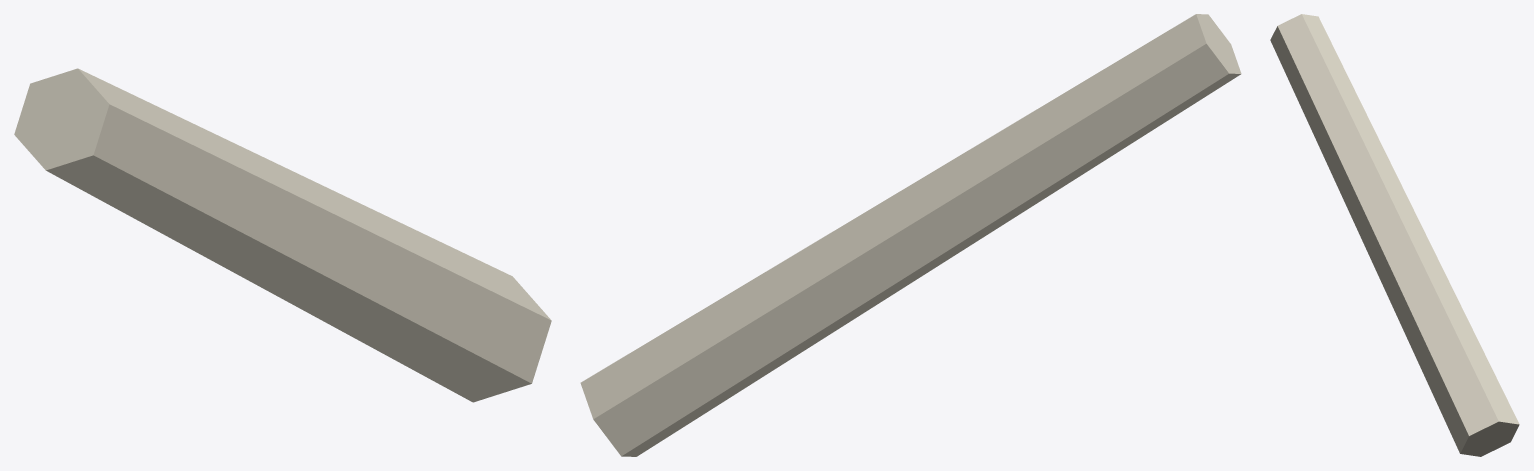
Rendered from rm2_leg_fr_femur.obj.
The picture shows the model from 3 angles, left to right: view 1: azimuth 30°, elevation 25°; view 2: azimuth 150°, elevation 25°; view 3: azimuth 270°, elevation 25°; orthographic projection. The views are drawn at different scales.
Parts seen in each view (by area): view 1: rm2_leg_fr_femur; view 2: rm2_leg_fr_femur; view 3: rm2_leg_fr_femur.
Part boxes in pixels (bbox=[...]): rm2_leg_fr_femur: bbox=[14, 68, 551, 402]; rm2_leg_fr_femur: bbox=[580, 14, 1241, 456]; rm2_leg_fr_femur: bbox=[1270, 14, 1519, 456].
Bounding box in the file's own units: 0.5078 × 0.4225 × 0.3155.
